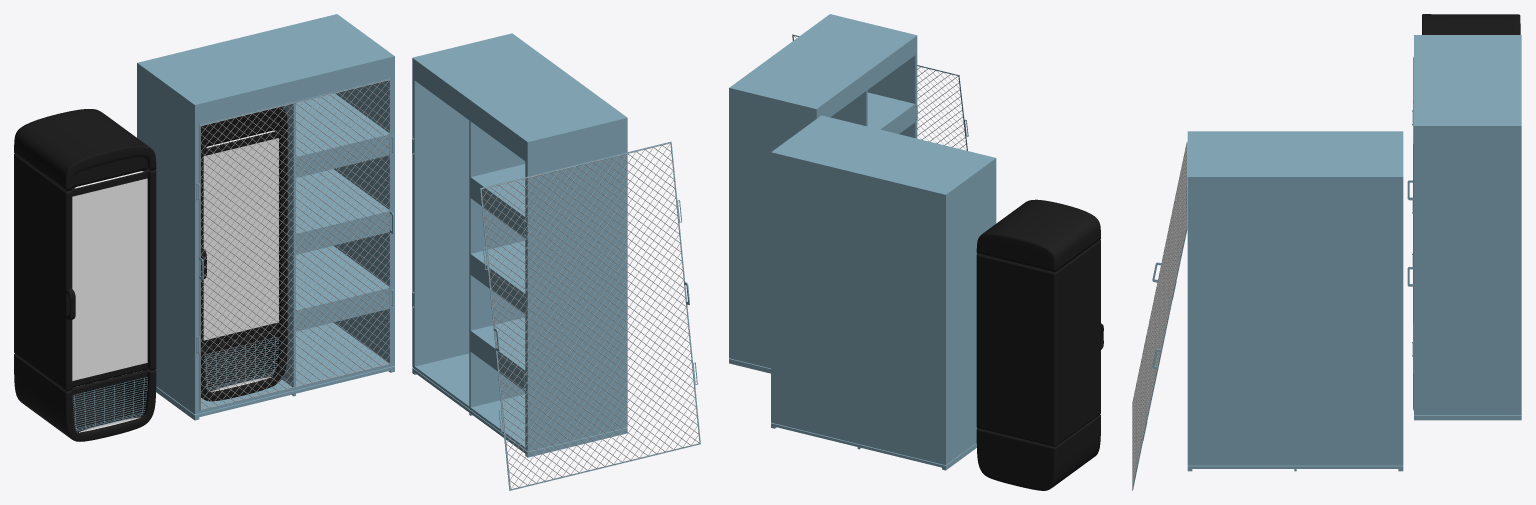
File: uploads_files_4094862_Fridge_and_Cage.fbx
3 views of the same model, side by side, from view 1: azimuth 30°, elevation 25°; view 2: azimuth 150°, elevation 25°; view 3: azimuth 270°, elevation 25° (orthographic). The views are drawn at different scales.
Parts seen in each view (by area): view 1: Cage_2, Cage_1, Fridge_2, Fridge_1, Mesh_2, Mesh_1, Mesh_2Border, Fridge_2Mesh, Mesh_1Border, Fridge_1Mesh; view 2: Cage_1, Fridge_2, Cage_2, Mesh_2; view 3: Cage_2, Cage_1, Mesh_2, Fridge_2, Mesh_2Border.
Boxes of the visible parts, left/top/right/bottom form: Cage_2: left=412, top=33, right=627, bottom=457; Cage_1: left=137, top=14, right=394, bottom=420; Fridge_2: left=14, top=109, right=156, bottom=441; Fridge_1: left=201, top=107, right=287, bottom=401; Mesh_2: left=481, top=143, right=699, bottom=489; Mesh_1: left=200, top=79, right=389, bottom=410; Mesh_2Border: left=480, top=141, right=700, bottom=490; Fridge_2Mesh: left=72, top=377, right=147, bottom=432; Mesh_1Border: left=196, top=78, right=393, bottom=411; Fridge_1Mesh: left=204, top=337, right=278, bottom=391; Cage_1: left=771, top=115, right=996, bottom=470; Fridge_2: left=976, top=199, right=1103, bottom=490; Cage_2: left=729, top=14, right=917, bottom=373; Mesh_2: left=793, top=36, right=965, bottom=149; Cage_2: left=1187, top=131, right=1403, bottom=471; Cage_1: left=1414, top=35, right=1521, bottom=420; Mesh_2: left=1132, top=143, right=1186, bottom=489; Fridge_2: left=1422, top=14, right=1520, bottom=34; Mesh_2Border: left=1132, top=141, right=1187, bottom=490.
Size of the model in its own units: 362 by 226 by 271.
